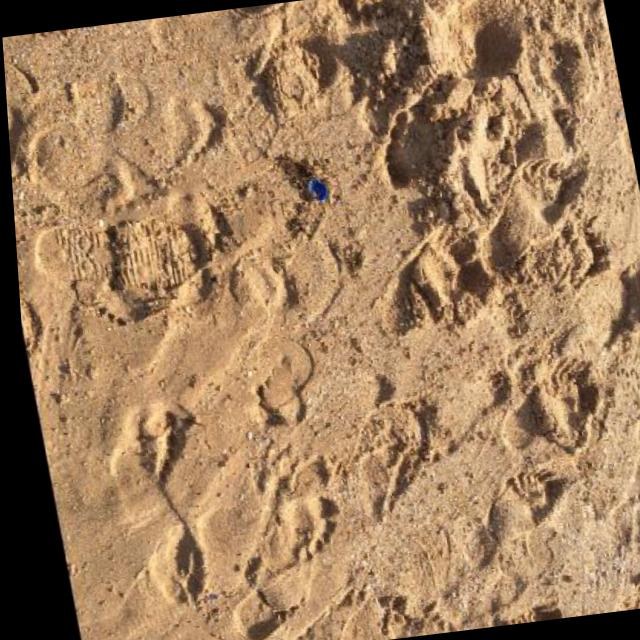plastic: (304, 176, 327, 204)
